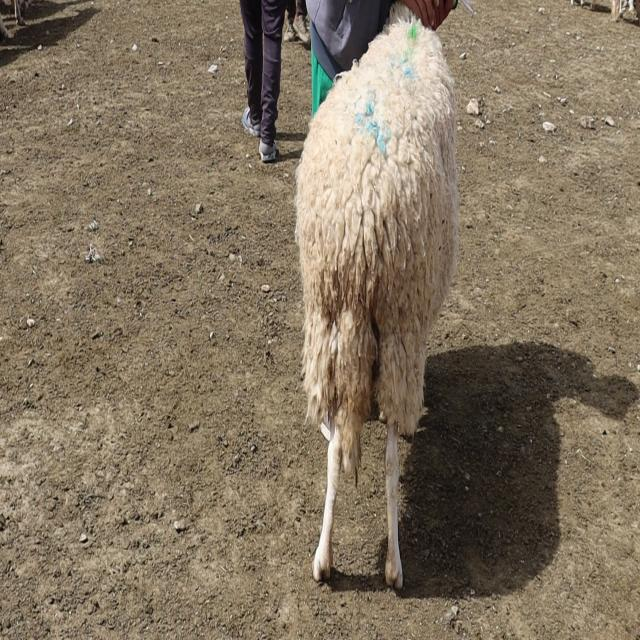Score_2: (295, 0, 458, 590)
